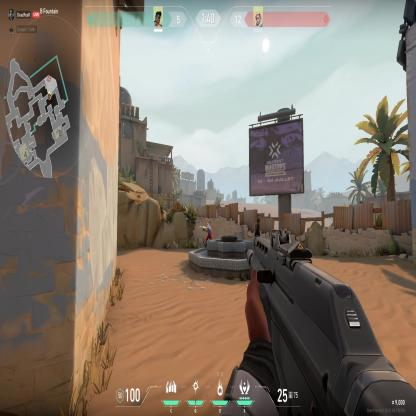enemy: (204, 222, 214, 239)
